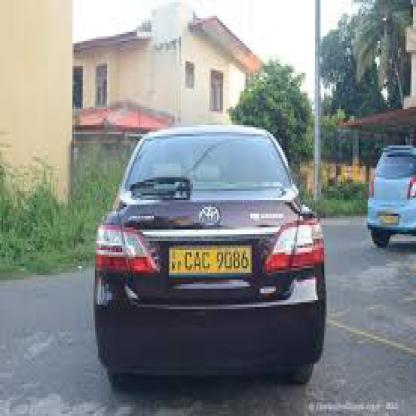car: (94, 128, 327, 394), (366, 146, 414, 252)
